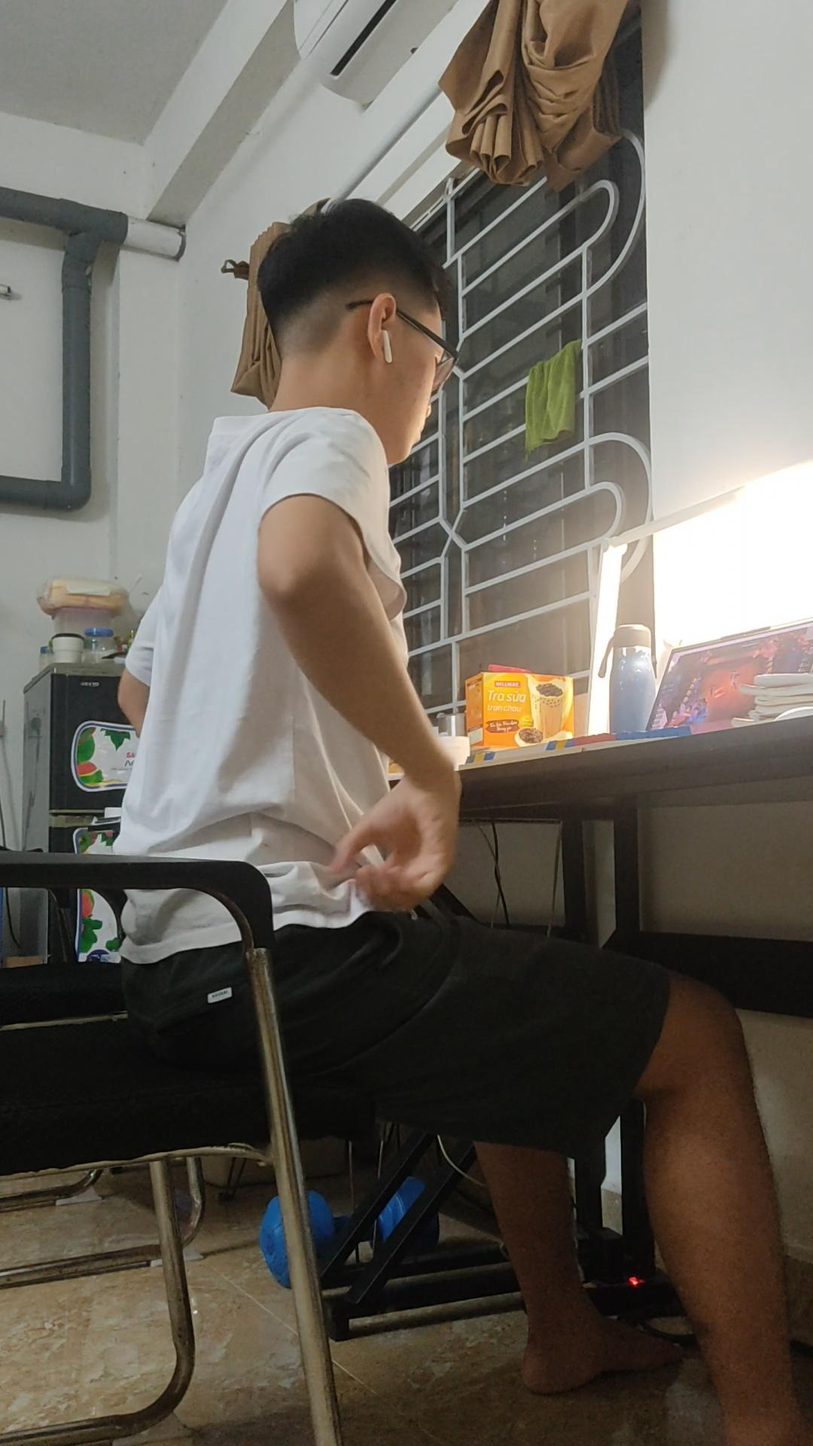GoodPosture: (119, 200, 812, 1445)
